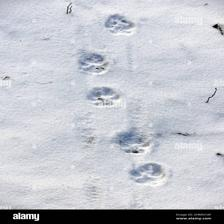wolf: (127, 160, 166, 188), (73, 47, 110, 76), (85, 82, 123, 109)
